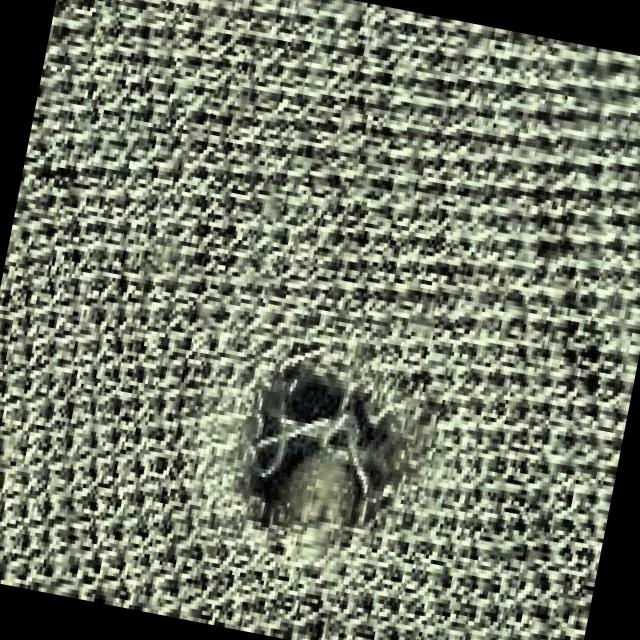cut: (202, 323, 444, 600)
